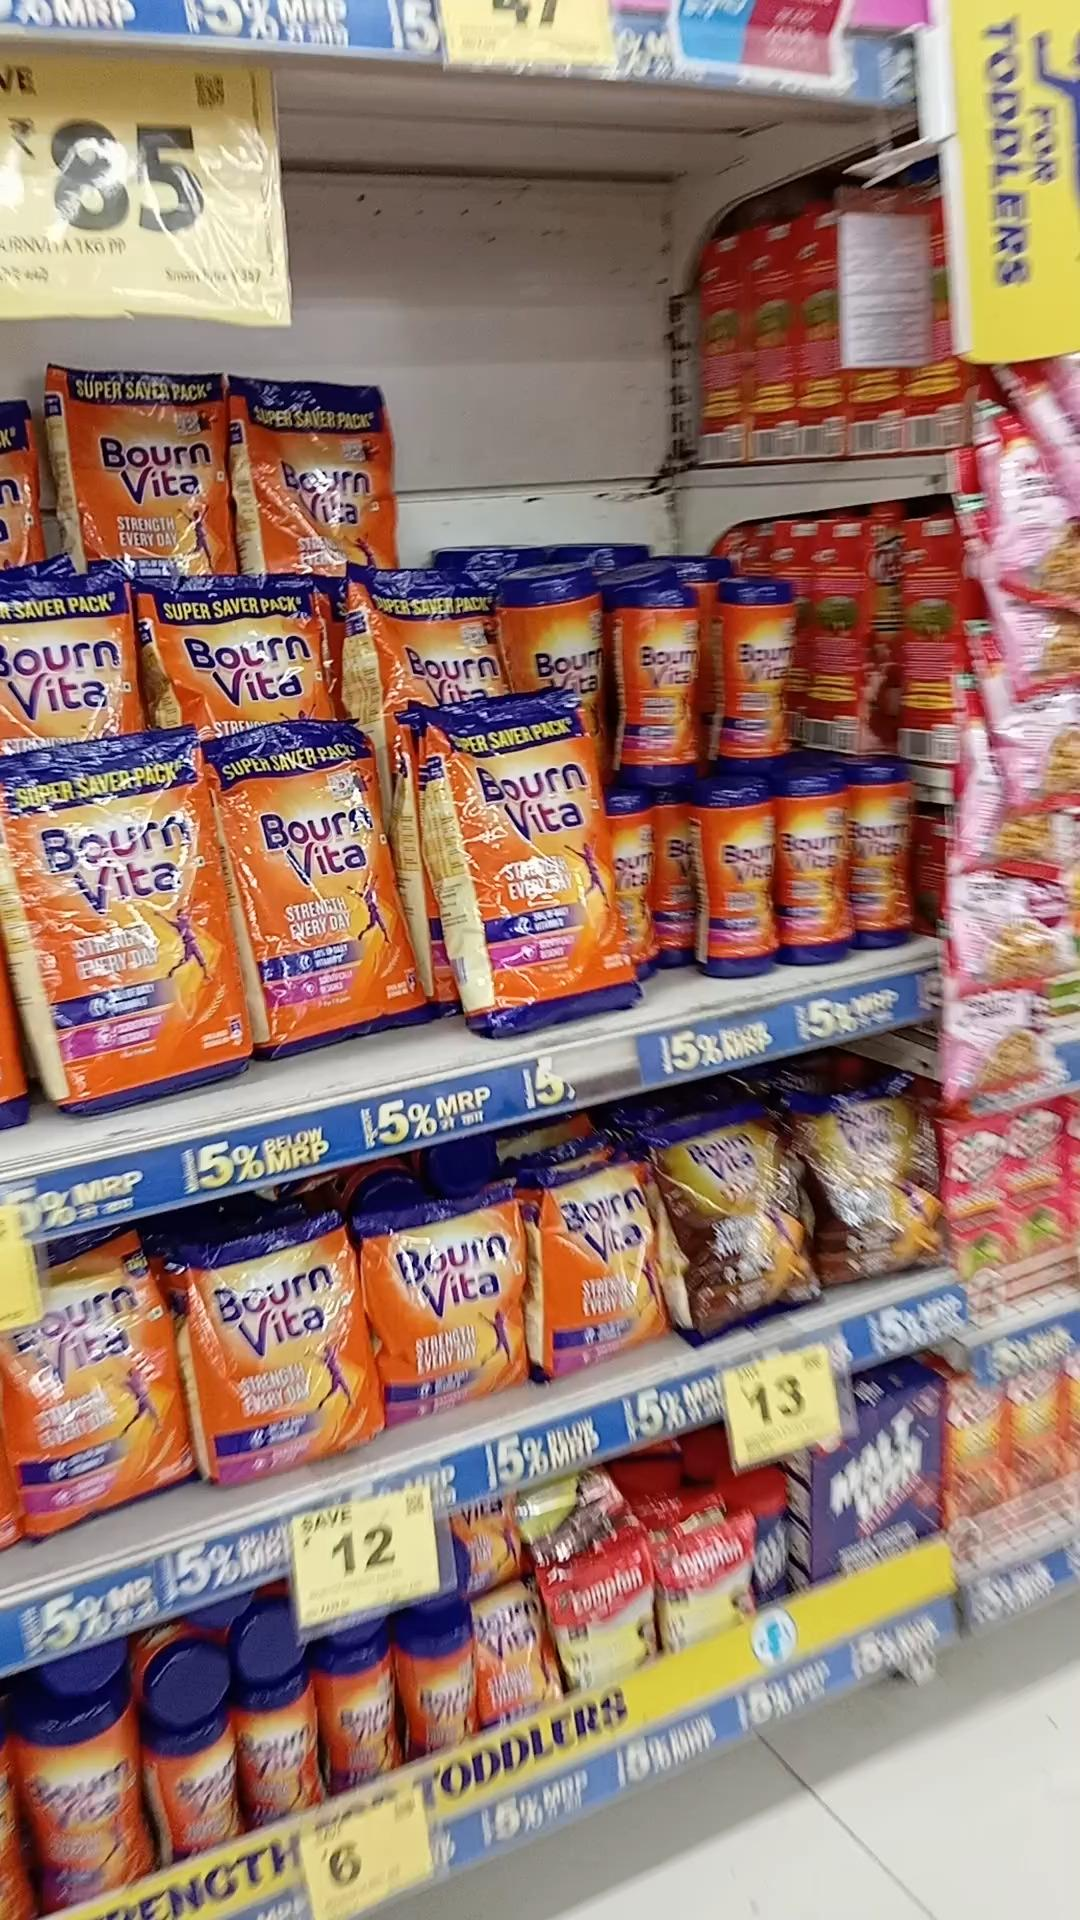BOURN_VITA_1_KG_POUCH: (8, 725, 222, 1096), (232, 727, 419, 1043), (456, 695, 615, 1030), (49, 371, 225, 571), (232, 372, 389, 562)
BOURN_VITA_200_G_JAR: (160, 1730, 240, 1854), (249, 1696, 322, 1813), (328, 1655, 397, 1772), (409, 1630, 472, 1751)
BOURN_VITA_500_G_JAR: (22, 1702, 148, 1891), (709, 572, 793, 774), (696, 783, 777, 981), (621, 587, 690, 790), (781, 778, 849, 968), (856, 761, 910, 951)
BOURN_VITA_500_G_POUCH: (193, 1228, 357, 1462), (376, 1209, 524, 1393), (538, 1167, 661, 1371)
BOURN_VITA_750_G_POUCH: (8, 1304, 179, 1518)
BOURN_VITA_FIVE_STAR_MAGIC_500_G_POUCH: (673, 1124, 810, 1331), (822, 1089, 935, 1273)
